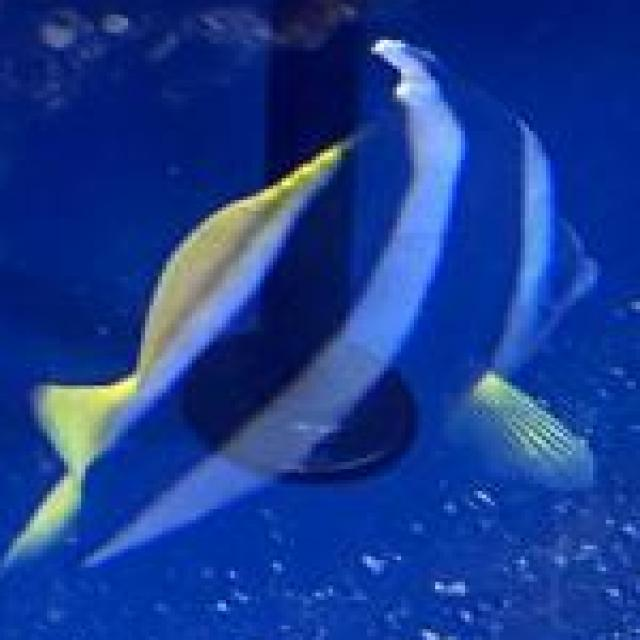fish: (1, 3, 636, 640)
